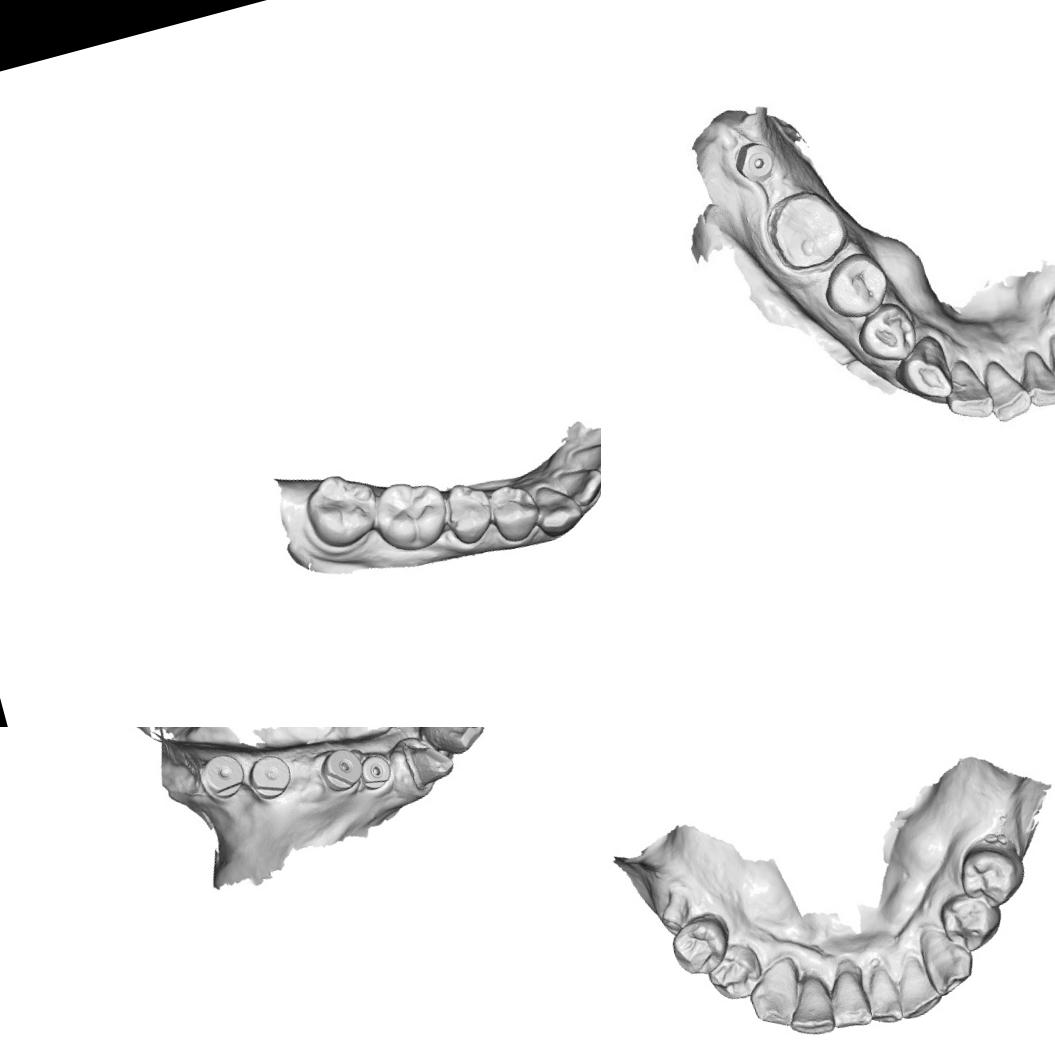canine: (738, 952, 813, 1036), (911, 917, 982, 1002), (900, 335, 958, 404), (527, 476, 587, 541)
crown: (394, 727, 461, 794)
implant: (195, 747, 248, 807), (242, 748, 296, 805), (313, 742, 367, 798), (729, 133, 780, 188), (352, 747, 396, 796)
incisor: (776, 967, 845, 1046), (817, 957, 881, 1037), (884, 946, 948, 1026), (853, 956, 912, 1033), (942, 360, 999, 426), (980, 355, 1032, 423), (1016, 346, 1055, 410), (419, 727, 488, 762), (555, 461, 601, 511), (568, 437, 601, 484), (576, 409, 601, 459)
molar: (297, 463, 387, 555), (364, 470, 454, 559), (764, 183, 846, 273)
premolar: (950, 834, 1033, 916), (662, 906, 740, 986), (932, 882, 1010, 960), (813, 248, 892, 322), (698, 938, 768, 1010), (850, 300, 921, 370), (438, 476, 500, 548), (484, 477, 546, 548)
